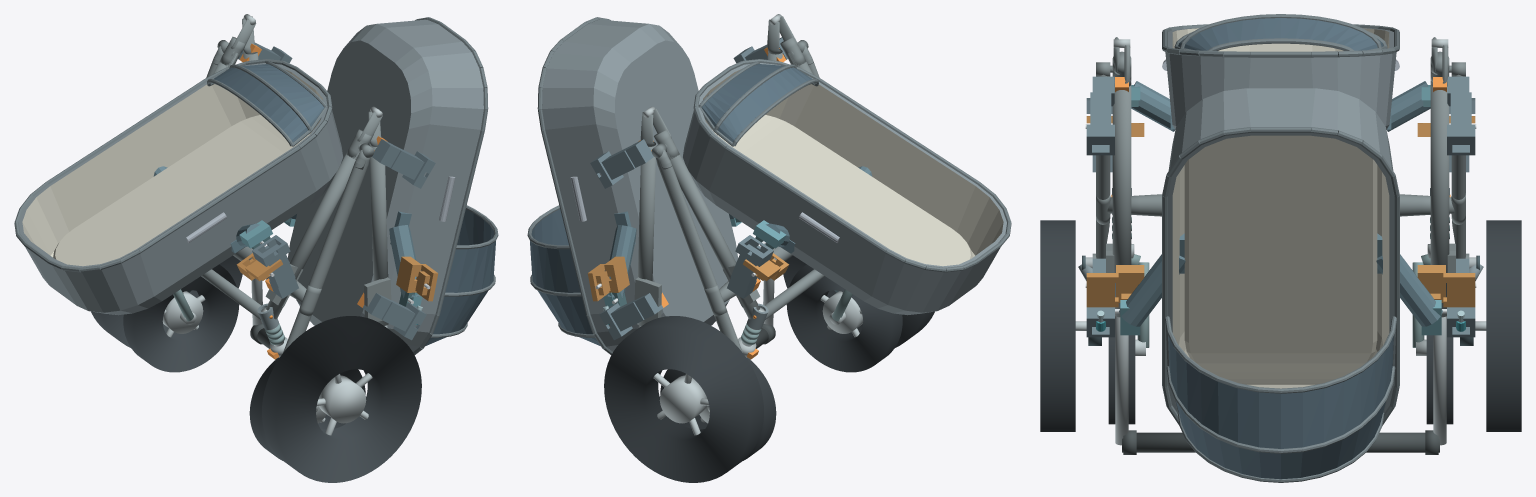
File: D03_w650_state3_wheel_L.glb
The picture shows the model from 3 angles, left to right: view 1: azimuth 30°, elevation 25°; view 2: azimuth 150°, elevation 25°; view 3: azimuth 270°, elevation 25°; orthographic projection. The views are drawn at different scales.
Parts seen in each view (by area): view 1: D03_Lower, D03_Upper, RL_tire.008, FR_tire.008, V46_rear_leg_-1.009, main_lower_-1.009, main_upper_-1.009, RL_sealed_hub.008, Universal_Cabin_Receiver_M_-1, Universal_Cabin_Receiver_L_-1, Universal_Cabin_Receiver_H_-1, FL_tire.008 (+8 smaller); view 2: D03_Lower, D03_Upper, RR_tire.008, FL_tire.008, V46_rear_leg_1.009, main_lower_1.009, main_upper_1.009, RR_sealed_hub.008, Universal_Cabin_Receiver_M_1, Universal_Cabin_Receiver_L_1, Universal_Cabin_Receiver_H_1, FR_tire.008 (+8 smaller); view 3: D03_Upper, D03_Lower, RL_tire.008, RR_tire.008, D03_Upper_Mount_H, main_upper_1.009, main_upper_-1.009, D03_Lower_Mount_L, round_handle.008, Universal_Cabin_Receiver_M_-1, Universal_Cabin_Receiver_M_1, D02_WideAdapter_H_-1 (+10 smaller).
Part boxes in pixels (box(x1,y1,x2,y2)): D03_Lower: box(14, 59, 342, 315); D03_Upper: box(287, 17, 498, 355); RL_tire.008: box(262, 316, 421, 482); FR_tire.008: box(123, 264, 239, 372); V46_rear_leg_-1.009: box(283, 157, 369, 352); main_lower_-1.009: box(266, 152, 359, 319); main_upper_-1.009: box(369, 144, 388, 325); RL_sealed_hub.008: box(318, 375, 366, 423); Universal_Cabin_Receiver_M_-1: box(372, 139, 435, 188); Universal_Cabin_Receiver_L_-1: box(252, 235, 298, 298); Universal_Cabin_Receiver_H_-1: box(362, 293, 426, 340); FL_tire.008: box(249, 357, 365, 460); D03_Lower: box(683, 59, 1011, 315); D03_Upper: box(527, 17, 738, 355); RR_tire.008: box(604, 316, 763, 482); FL_tire.008: box(786, 264, 902, 372); V46_rear_leg_1.009: box(656, 157, 742, 352); main_lower_1.009: box(666, 152, 759, 319); main_upper_1.009: box(637, 143, 656, 325); RR_sealed_hub.008: box(659, 375, 707, 423); Universal_Cabin_Receiver_M_1: box(590, 139, 653, 188); Universal_Cabin_Receiver_L_1: box(727, 235, 773, 298); Universal_Cabin_Receiver_H_1: box(599, 293, 663, 340); FR_tire.008: box(660, 357, 776, 460); D03_Upper: box(1162, 88, 1399, 482); D03_Lower: box(1162, 14, 1399, 129); RL_tire.008: box(1040, 220, 1075, 431); RR_tire.008: box(1486, 220, 1521, 431); D03_Upper_Mount_H: box(1115, 233, 1446, 335); main_upper_1.009: box(1430, 82, 1449, 317); main_upper_-1.009: box(1112, 85, 1131, 317); D03_Lower_Mount_L: box(1131, 81, 1430, 131); round_handle.008: box(1122, 432, 1439, 452); Universal_Cabin_Receiver_M_-1: box(1086, 76, 1114, 155); Universal_Cabin_Receiver_M_1: box(1447, 76, 1475, 155); D02_WideAdapter_H_-1: box(1085, 265, 1144, 307).
Bounding box in the file's own units: 1.11 × 0.7954 × 0.8171.
